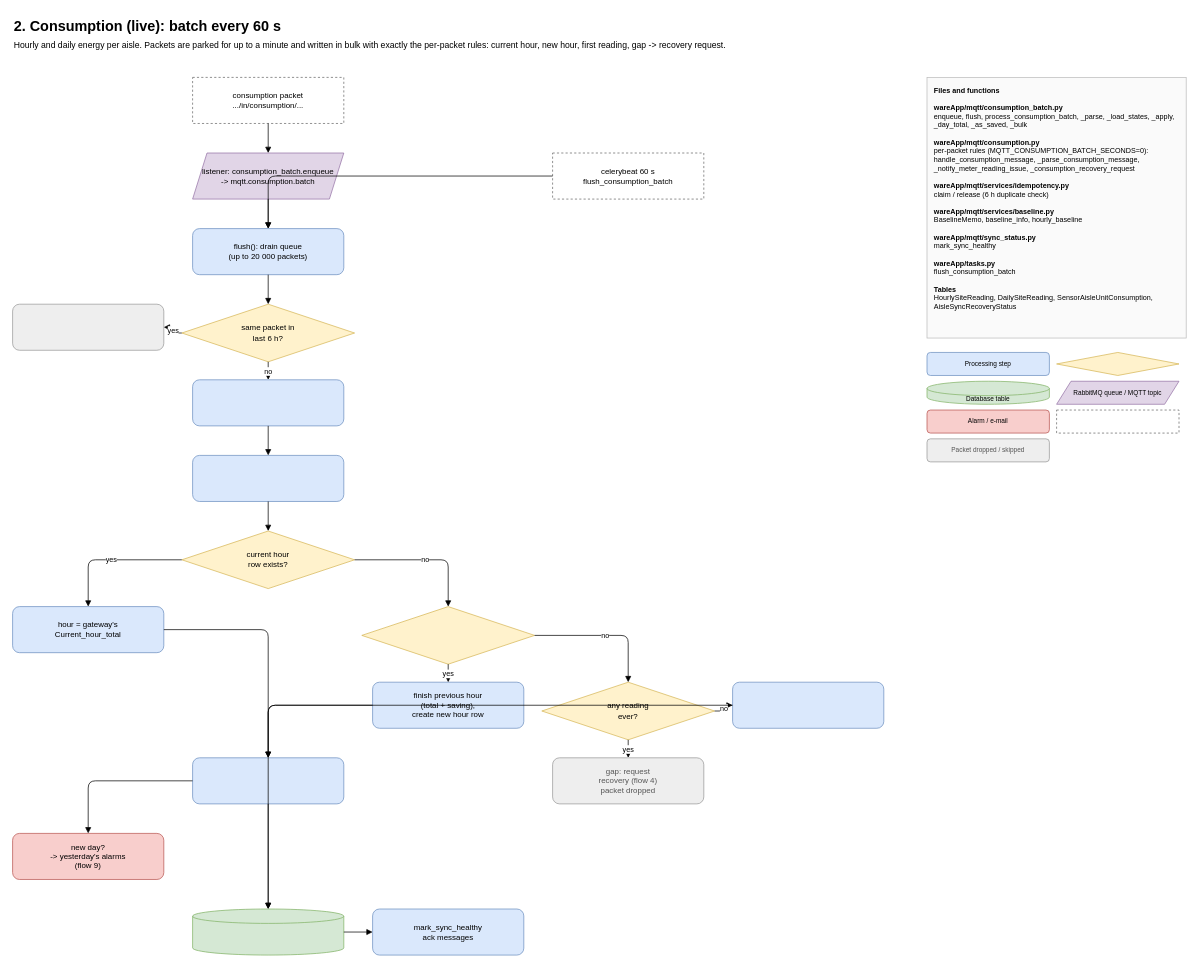
This 1199x968 diagram has some shape labels left out. Here are the shapes that lost their labels. From the top down, the box of each, then its label:
(12, 303, 164, 350): skipped: duplicate
(1056, 352, 1179, 375): Decision
(192, 379, 344, 426): parse payload ERROR!!! -> meter reading issue alarm
(1056, 409, 1179, 433): External: gateway, broker, timer
(192, 455, 344, 501): load aisles, hourly rows (2 days), daily rows: 3 queries
(361, 606, 535, 664): previous hour row exists?
(732, 681, 884, 728): first reading: create hour + day rows
(192, 757, 344, 804): day total = sum of the day's hourly rows saving = baseline - total
(192, 908, 344, 955): bulk_update / bulk_create one statement per table BULK lines in log
